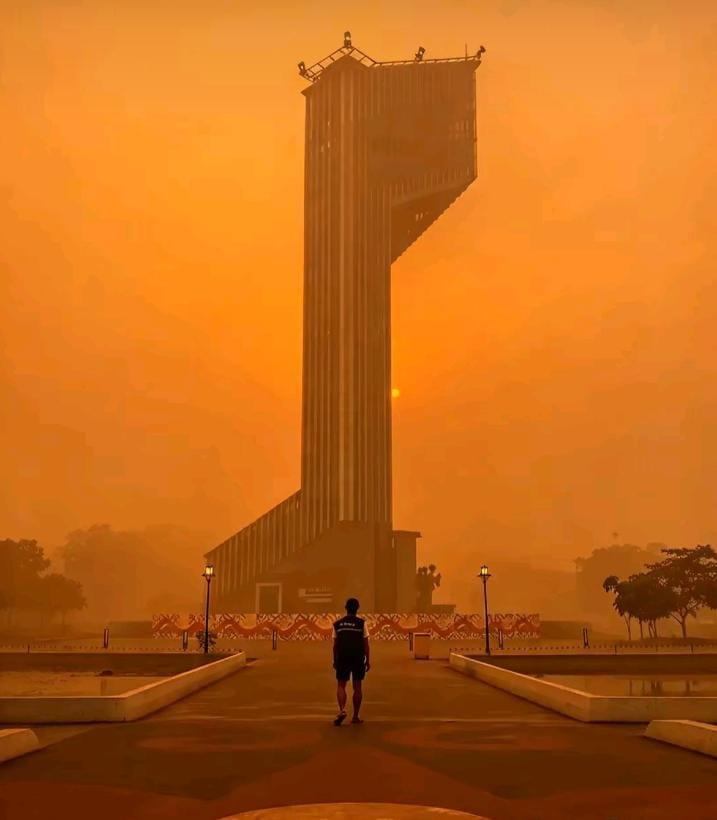Deteksi-Objek-Citra-Berasap: (0, 0, 717, 640)
Gedung: (202, 32, 483, 614)
Manusia: (332, 598, 370, 725)
Vegetasi: (604, 544, 717, 641), (0, 537, 88, 640), (59, 522, 153, 617)
